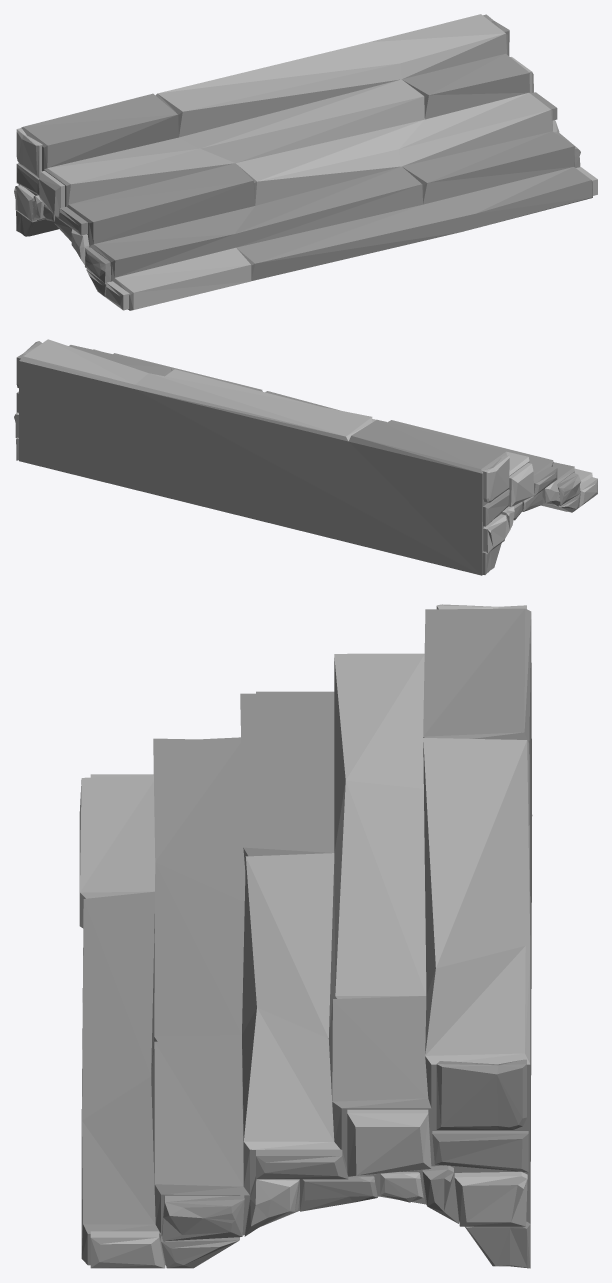
File: _STAIRS_04_1.fbx
The picture shows the model from 3 angles, top to bottom: view 1: azimuth 30°, elevation 25°; view 2: azimuth 150°, elevation 25°; view 3: azimuth 270°, elevation 25°; orthographic projection. The views are drawn at different scales.
Visible parts, largest first — view 1: STAIRS_04_1; view 2: STAIRS_04_1; view 3: STAIRS_04_1.
Boxes of the visible parts, x1,y1,x2,y2 form: STAIRS_04_1: [14, 14, 597, 310]; STAIRS_04_1: [14, 339, 597, 575]; STAIRS_04_1: [79, 604, 532, 1268].
Bounding box in the file's own units: 251 × 52.96 × 102.
